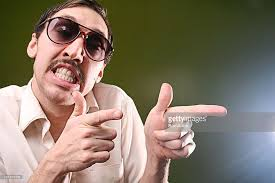hand: (45, 89, 136, 177), (143, 80, 233, 160)
